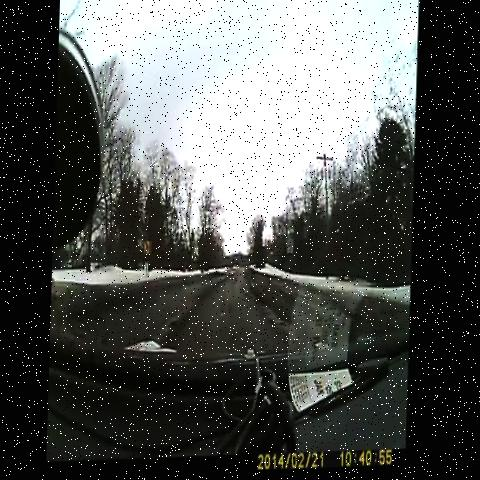pothole: (163, 306, 194, 340)
